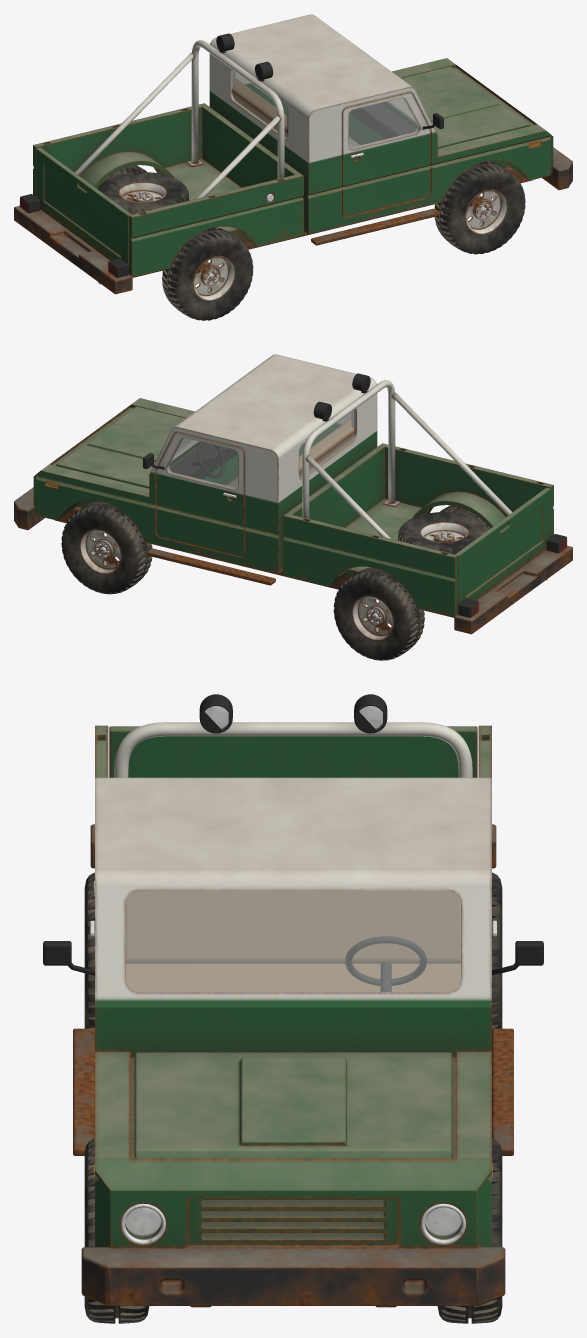
Rendered from pickup_healthy.glb.
3 views of the same model, one above another, from view 1: azimuth 30°, elevation 25°; view 2: azimuth 150°, elevation 25°; view 3: azimuth 270°, elevation 25° (orthographic). The views are drawn at different scales.
Parts seen in each view (by area): view 1: Body, Wheel_RR, Wheel_FR, Glass, SpareWheel; view 2: Body, Wheel_RL, Wheel_FL, Glass, SpareWheel; view 3: Body, Glass, Wheel_FL, Wheel_FR, Wheel_RL, Wheel_RR.
Boxes of the visible parts, bbox=[...] form: Body: bbox=[14, 14, 572, 294]; Wheel_RR: bbox=[162, 227, 253, 320]; Wheel_FR: bbox=[434, 161, 525, 254]; Glass: bbox=[20, 70, 541, 275]; SpareWheel: bbox=[98, 172, 189, 214]; Body: bbox=[14, 354, 572, 634]; Wheel_RL: bbox=[333, 567, 424, 660]; Wheel_FL: bbox=[61, 501, 152, 594]; Glass: bbox=[45, 410, 566, 615]; SpareWheel: bbox=[397, 512, 488, 554]; Body: bbox=[43, 694, 543, 1307]; Glass: bbox=[94, 706, 492, 1236]; Wheel_FL: bbox=[437, 1138, 502, 1323]; Wheel_FR: bbox=[84, 1138, 149, 1323]; Wheel_RL: bbox=[492, 872, 502, 1029]; Wheel_RR: bbox=[84, 872, 94, 1029].
Bounding box in the file's own units: 4.84 × 2.15 × 2.27.
6 materials, 2 textured.
